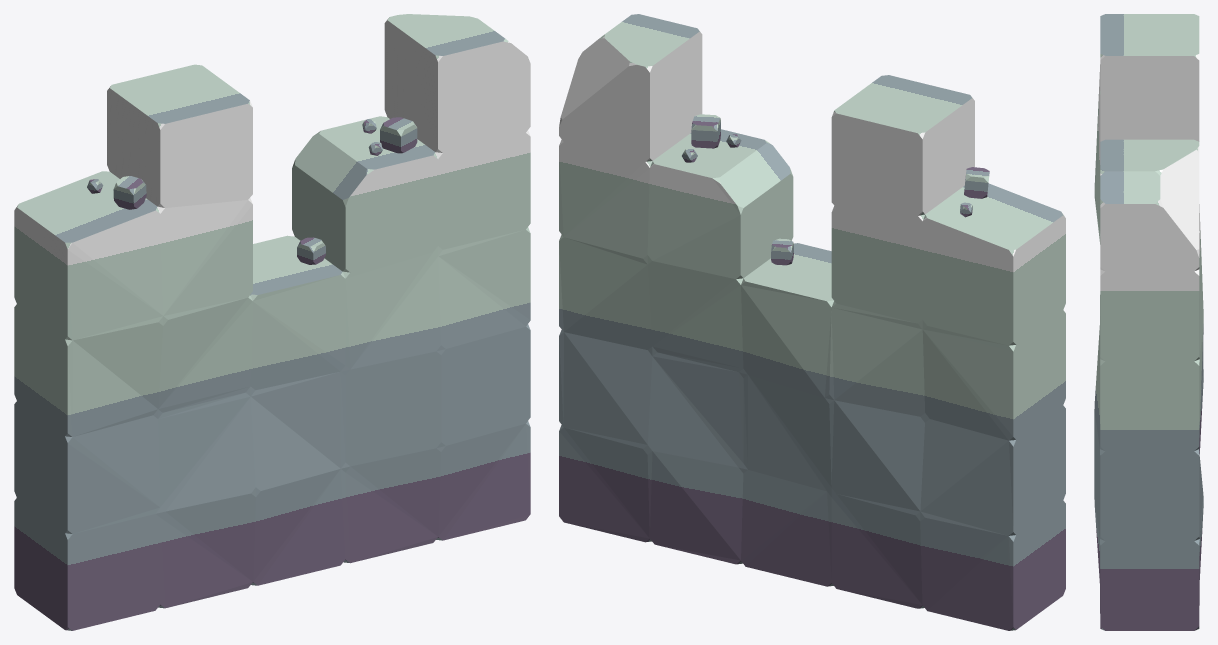
Rendered from Wall 2.001.fbx.
3 renders of one model, left to right at view 1: azimuth 30°, elevation 25°; view 2: azimuth 150°, elevation 25°; view 3: azimuth 270°, elevation 25°, orthographic. The views are drawn at different scales.
Visible parts, largest first — view 1: Wall 2.001; view 2: Wall 2.001; view 3: Wall 2.001.
Part boxes in pixels (x1=…): Wall 2.001: x1=14, y1=14, x2=530, y2=630; Wall 2.001: x1=559, y1=14, x2=1065, y2=630; Wall 2.001: x1=1094, y1=14, x2=1203, y2=630.
Size of the model in its own units: 500 by 500 by 110.
